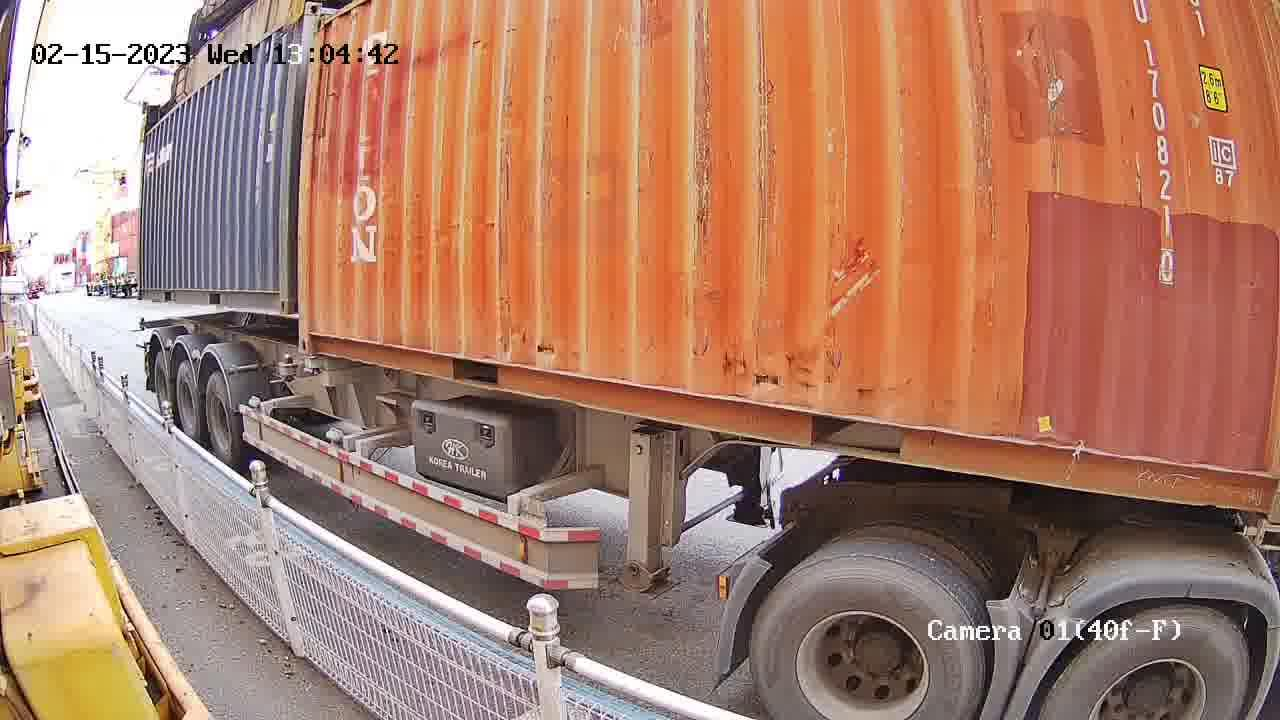Cone: (274, 351, 297, 383), (304, 354, 326, 375)
Hole_L: (297, 314, 355, 358)
Hole_R: (255, 270, 290, 318)
Tire: (750, 560, 986, 717), (1036, 610, 1253, 717), (206, 380, 239, 460), (173, 365, 197, 433), (153, 356, 170, 404)
